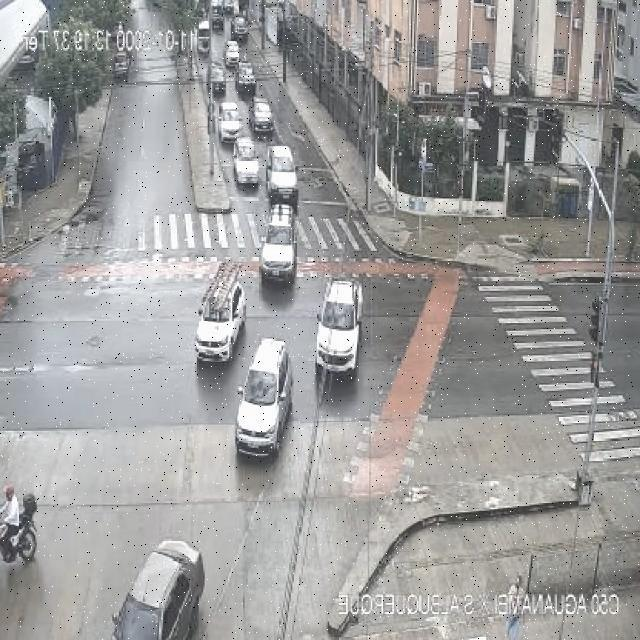Car: (110, 541, 204, 640), (234, 341, 292, 458), (314, 276, 362, 378), (194, 283, 247, 364), (258, 208, 298, 284), (264, 146, 298, 202), (233, 139, 261, 186), (218, 102, 242, 140), (250, 100, 274, 134), (236, 64, 256, 96), (208, 62, 226, 96), (113, 51, 131, 80), (231, 15, 250, 41), (224, 40, 241, 68)
